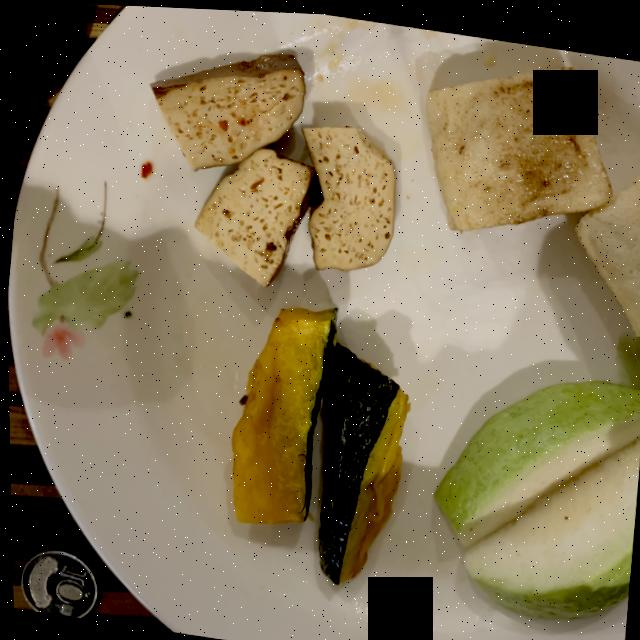coin: (18, 549, 94, 617)
creamy tofu -without sauce-: (425, 61, 640, 329)
firm tofu: (150, 49, 394, 283)
guava -sliced-: (432, 374, 640, 613)
pumpkin: (230, 304, 407, 580)
